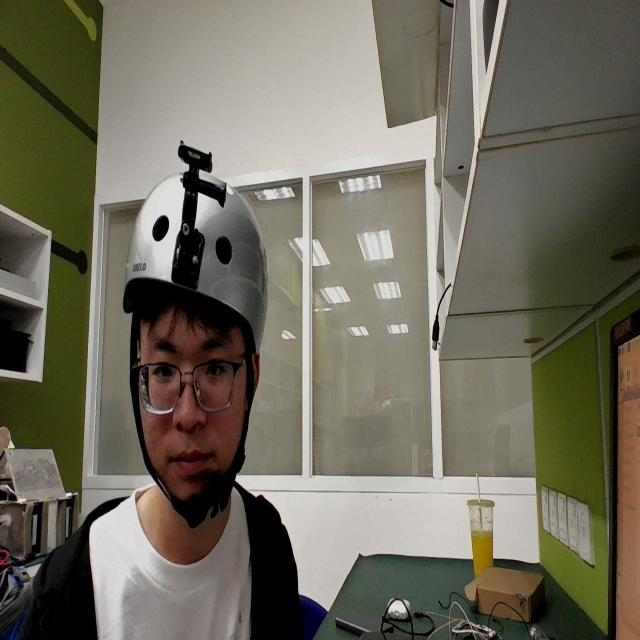With Helmet: (92, 137, 288, 522)
